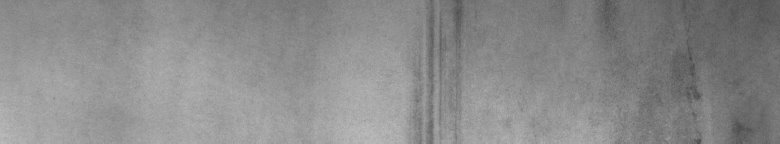ka: (415, 4, 462, 136)
